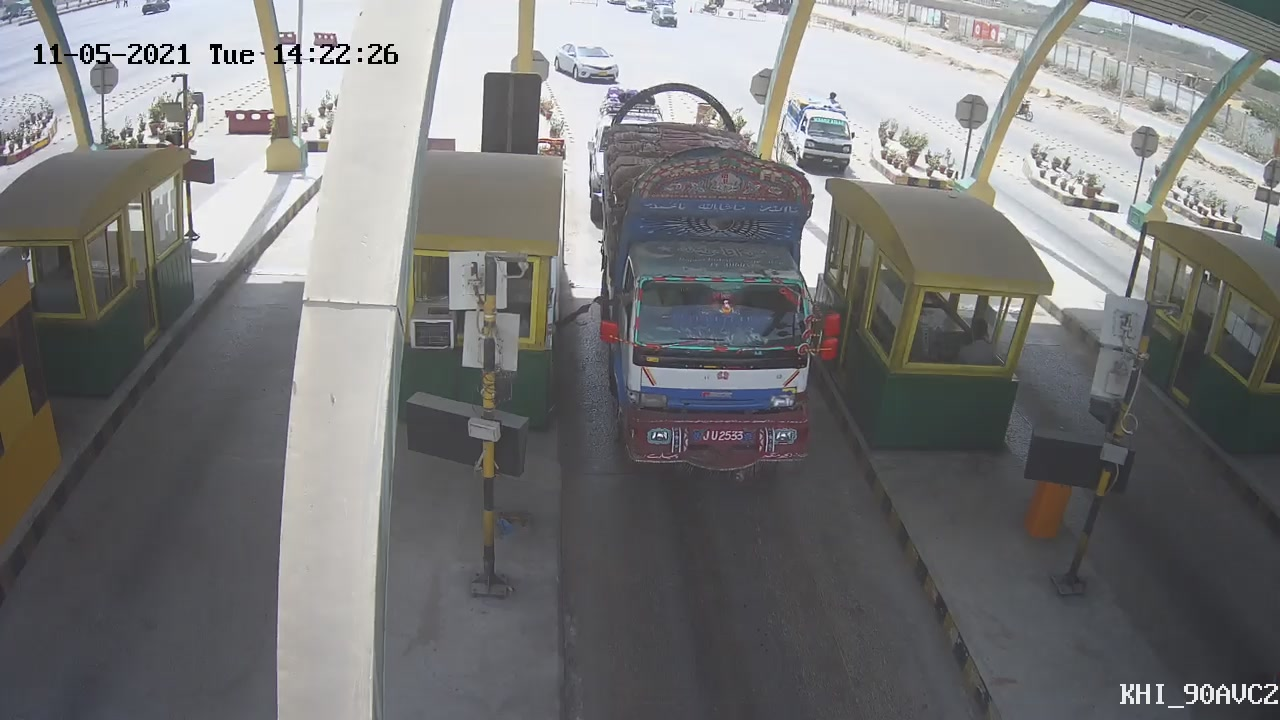F5: (586, 78, 829, 479)
